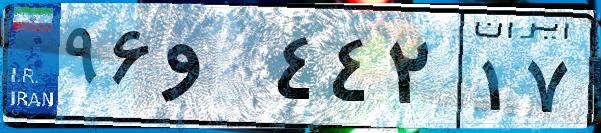1: (475, 38, 525, 113)
2: (385, 28, 445, 110)
4: (270, 28, 330, 110), (330, 28, 385, 110)
6: (110, 28, 158, 98)
7: (525, 38, 570, 115)
9: (57, 26, 110, 100)
و: (158, 20, 270, 120)
